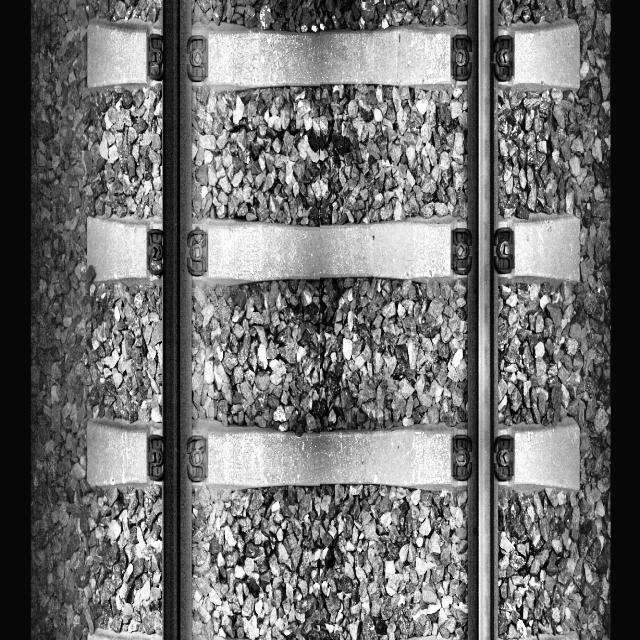Clips: (185, 433, 208, 483), (492, 225, 515, 275), (493, 432, 514, 482), (186, 35, 208, 81), (492, 34, 513, 82), (452, 32, 472, 82), (187, 229, 208, 276), (452, 433, 472, 481), (453, 227, 472, 276), (147, 433, 165, 483), (147, 228, 164, 275), (147, 34, 164, 80)
Sleepers: (87, 17, 583, 91), (88, 419, 581, 491), (85, 215, 580, 282)
